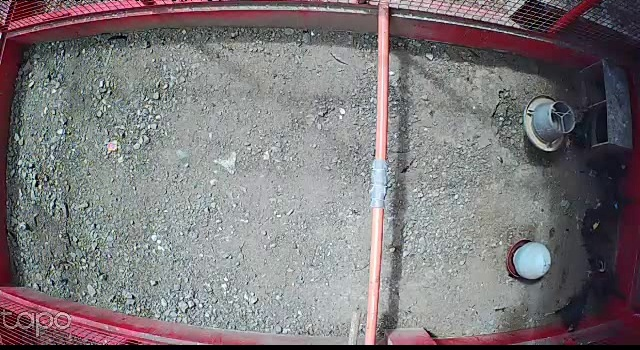Chicken: (543, 277, 594, 337), (562, 107, 596, 153)
Rooster: (579, 241, 633, 309)
Saddle_Color_Yellow: (591, 222, 600, 229)
